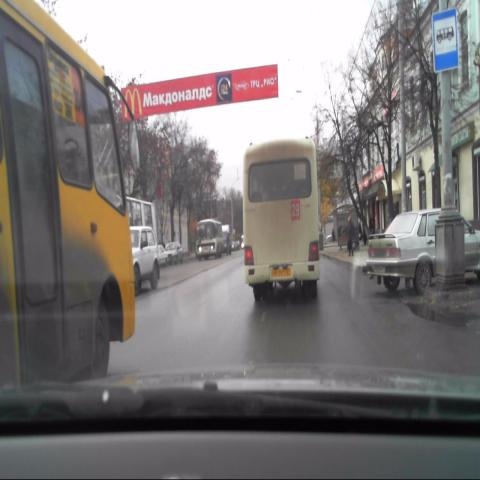5_16: (432, 8, 459, 74)
